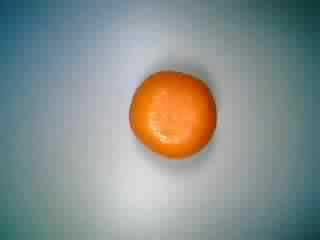orange: (127, 68, 218, 161)
